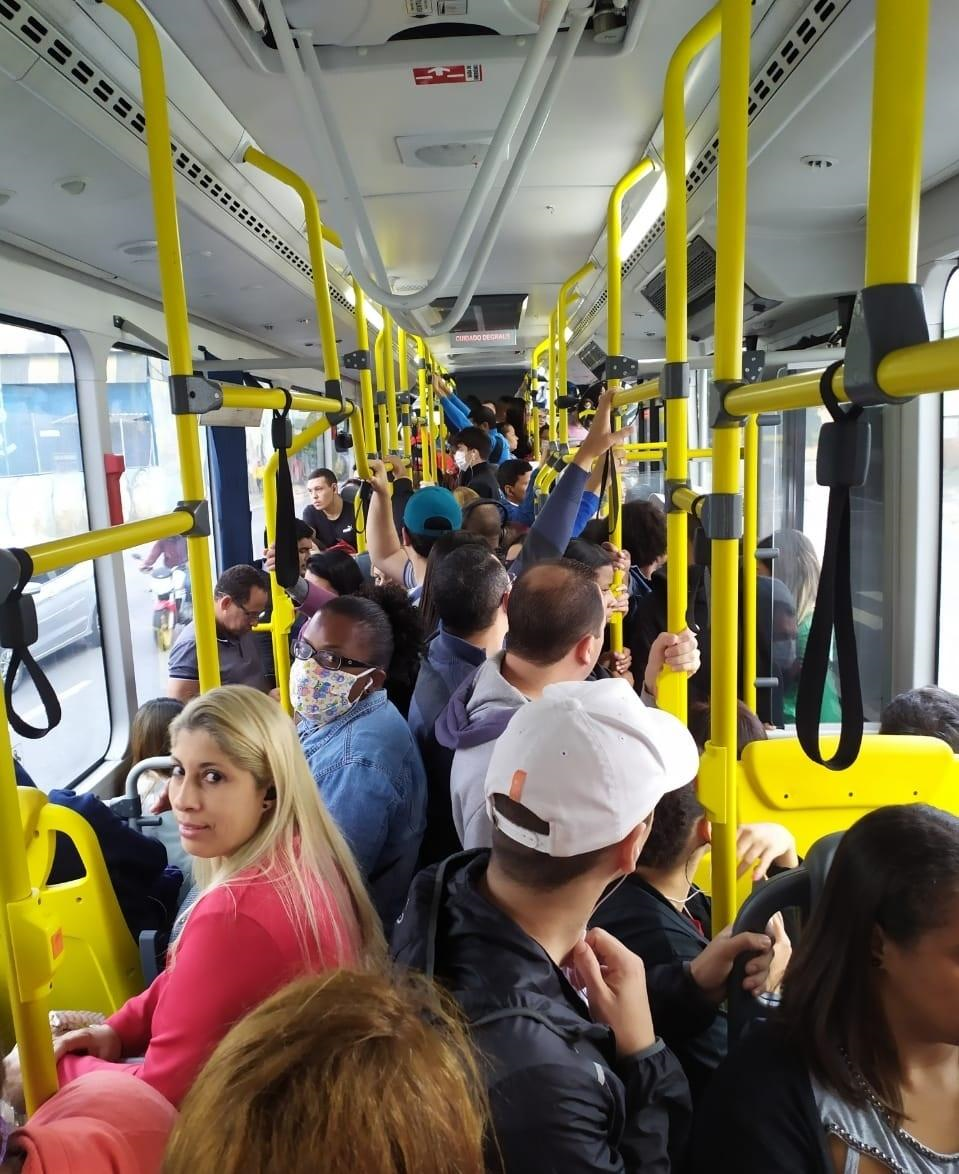with_mask: (284, 624, 378, 716)
without_mask: (173, 722, 261, 854), (307, 478, 338, 511)
